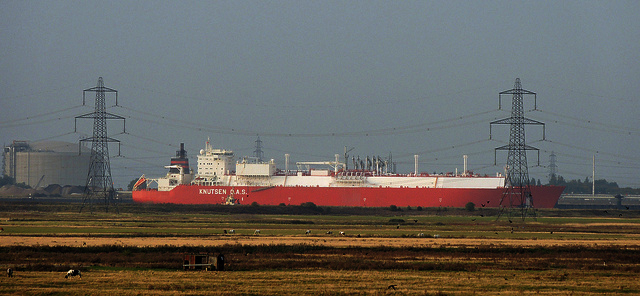LNG_ship: (131, 138, 562, 212)
tug_boat: (215, 185, 249, 211)
